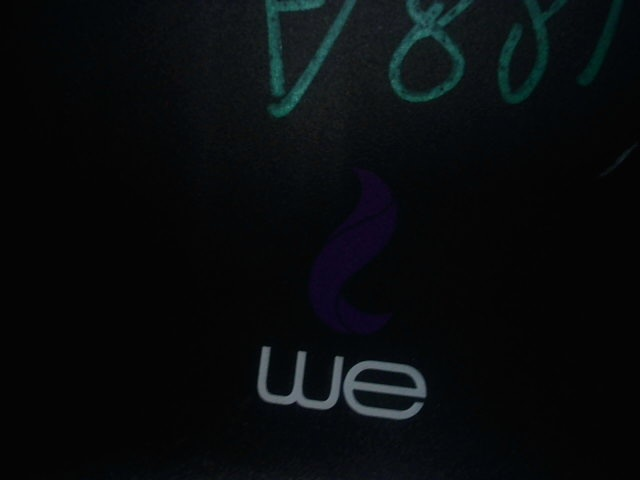AT_We: (256, 158, 437, 422)
